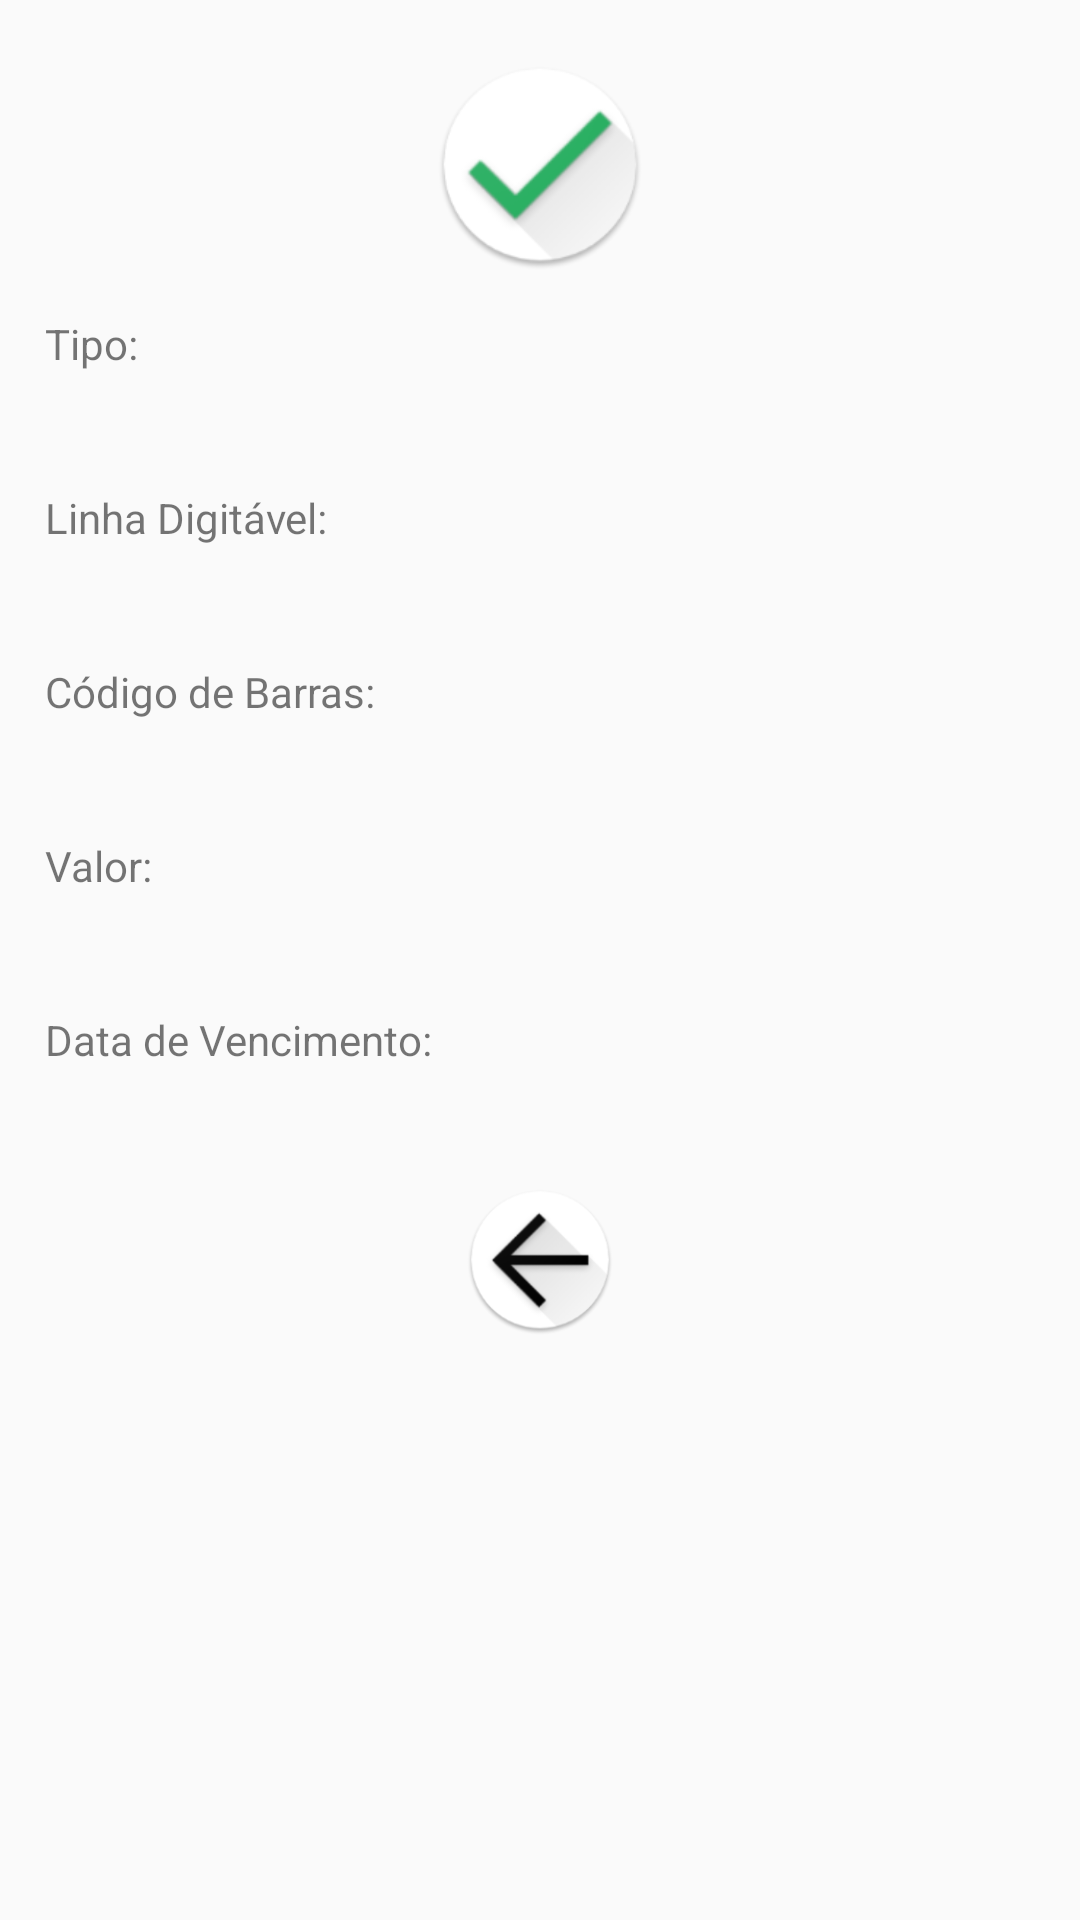

Named icons in this screenshot (1080 x 1920) and their centers, (x,y):
left: (540,1272)
valido: (540,188)
